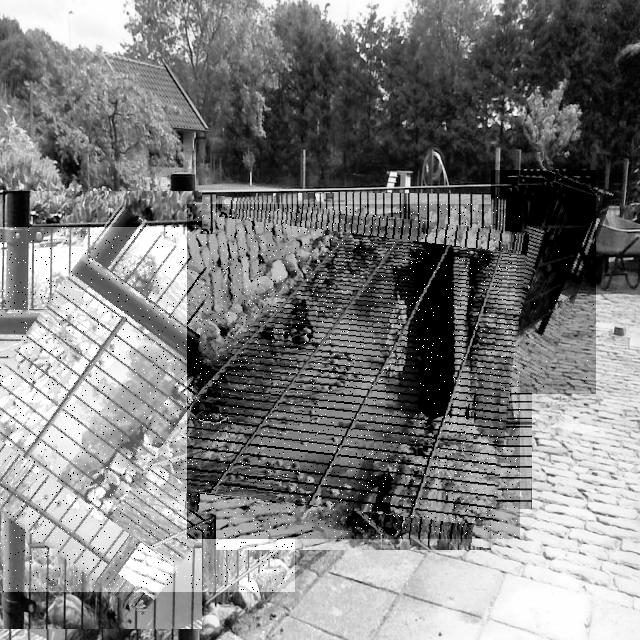fences: (187, 204, 520, 539), (0, 227, 295, 592), (491, 170, 596, 394)
